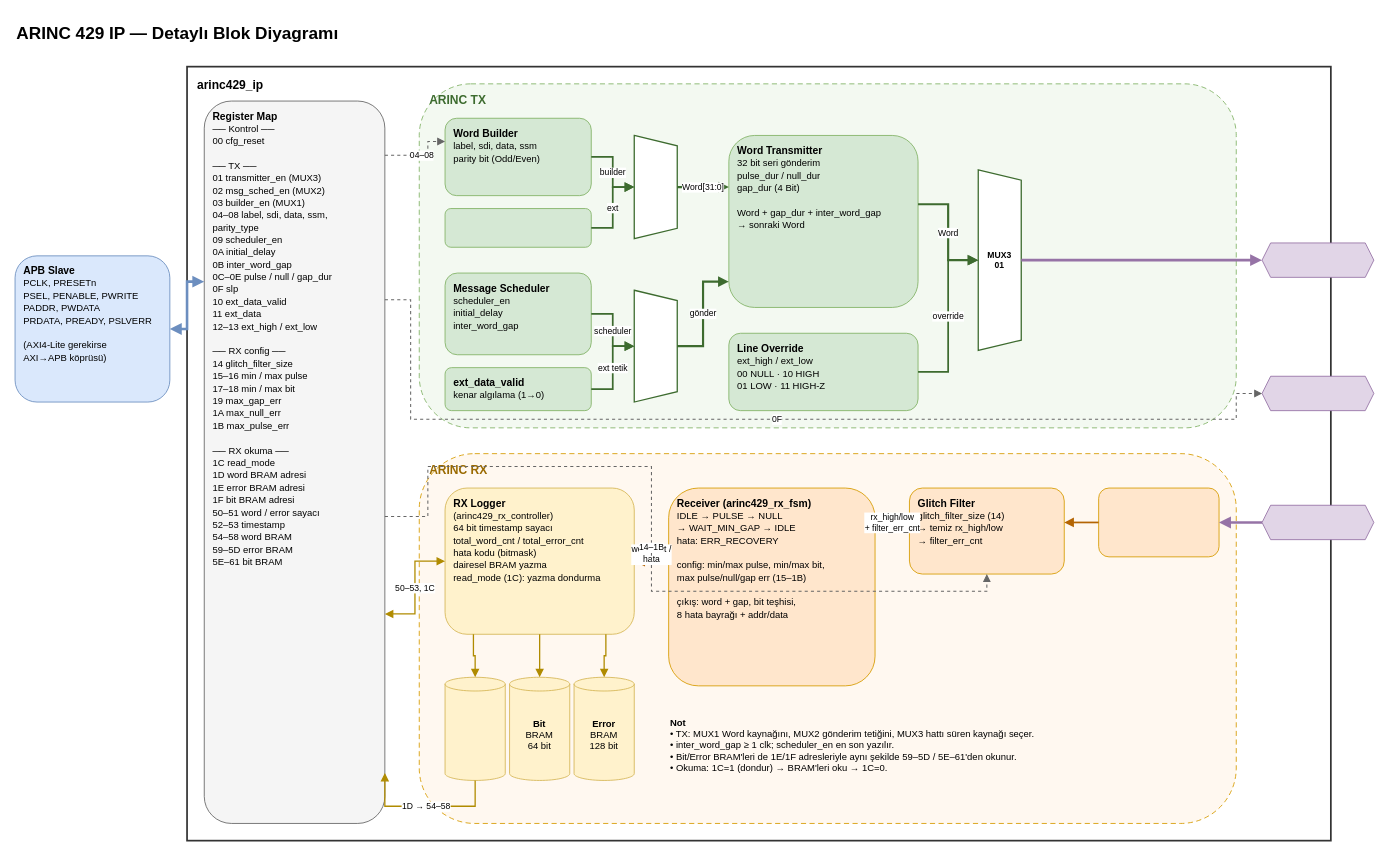
Some shapes in this 1389 by 856 pixel diagram are drawn without their labels. Here are the shapes that lost their labels. From the top down, the centre of each, then its label:
the point at 655,186: MUX1 03
the point at 517,227: ext_data (11)
the point at 1317,259: tx_high / tx_low
the point at 655,345: MUX2 02
the point at 1317,393: slp
the point at 1158,522: CDC 2-FF senkronizasyon
the point at 1317,522: rx_high / rx_low
the point at 474,728: Word BRAM 144 bit
